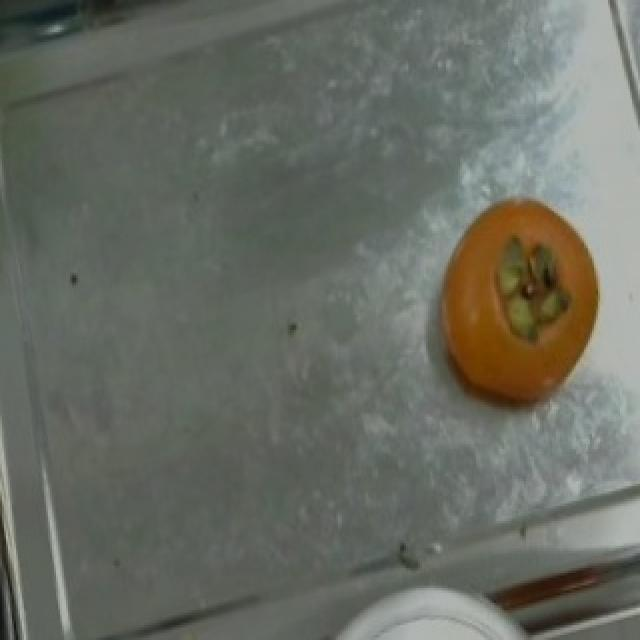Fruit: (414, 178, 626, 426), (324, 600, 540, 640)
